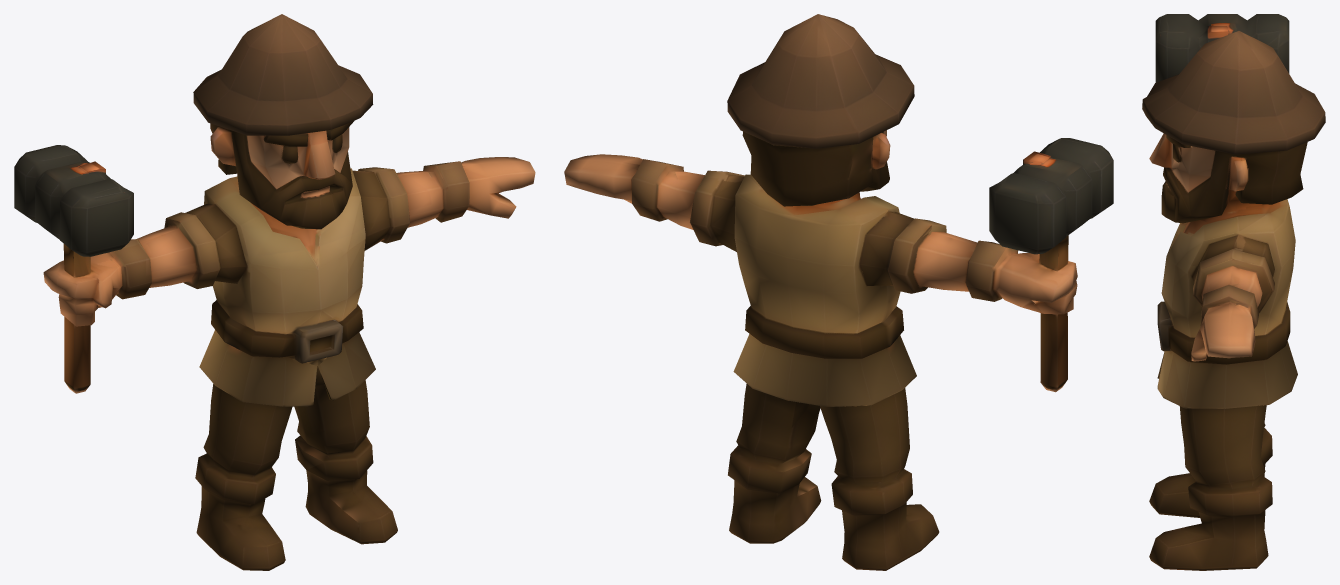
Rendered from Worker.fbx.
3 views of the same model, side by side, from view 1: azimuth 30°, elevation 25°; view 2: azimuth 150°, elevation 25°; view 3: azimuth 270°, elevation 25° (orthographic). The views are drawn at different scales.
Parts seen in each view (by area): view 1: material; view 2: material; view 3: material.
Part boxes in pixels (x1=…): material: x1=14, y1=14, x2=535, y2=570; material: x1=564, y1=14, x2=1113, y2=570; material: x1=1142, y1=14, x2=1325, y2=570.
Bounding box in the file's own units: 184 × 183 × 60.73.
